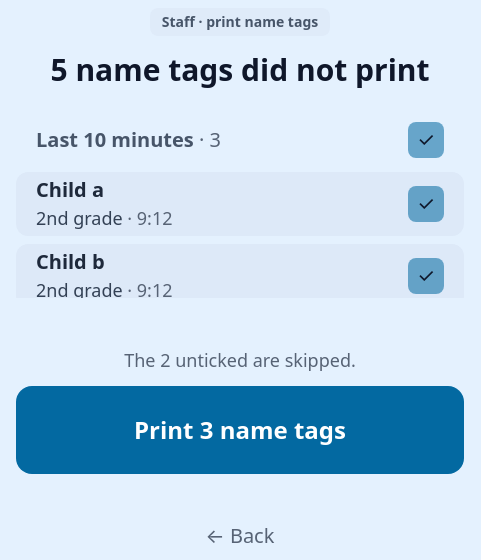
Scenario: the ticks › empties a group that is already full
Press the mouse on the text "Last 10 minutes": (128, 140) [36,126,221,154]
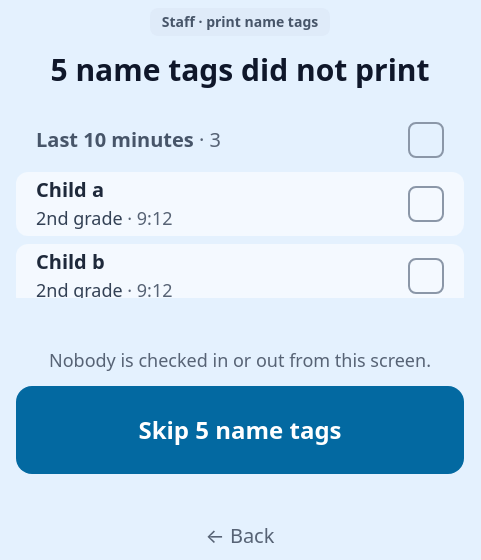
Expected: the button "Skip 5 name tags" is shown, [16,386,464,474]
